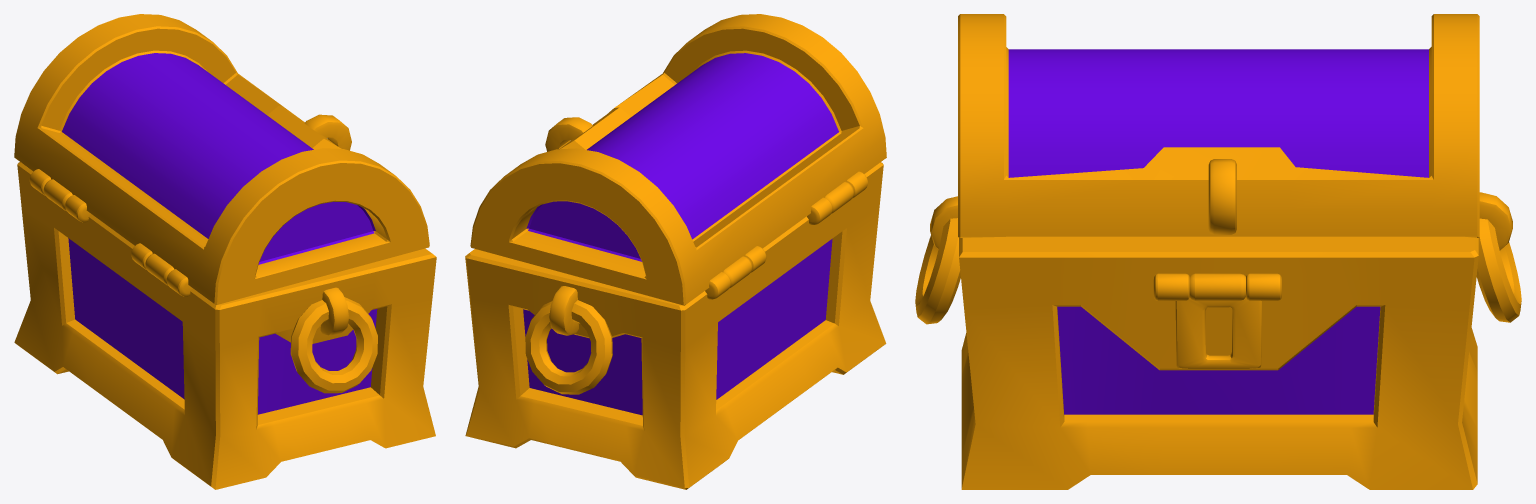
Rendered from Purple Chest.fbx.
3 renders of one model, left to right at view 1: azimuth 30°, elevation 25°; view 2: azimuth 150°, elevation 25°; view 3: azimuth 270°, elevation 25°, orthographic. The views are drawn at different scales.
Visible parts, largest first — view 1: Cube, Cylinder; view 2: Cube, Cylinder; view 3: Cube, Cylinder.
Part boxes in pixels (<box>): Cube: <box>14,162,436,489</box>; Cylinder: <box>14,14,429,304</box>; Cube: <box>465,162,886,489</box>; Cylinder: <box>470,14,886,305</box>; Cube: <box>915,192,1521,489</box>; Cylinder: <box>958,14,1479,237</box>.
Bounding box in the file's own units: 74.31 × 87 × 123.
